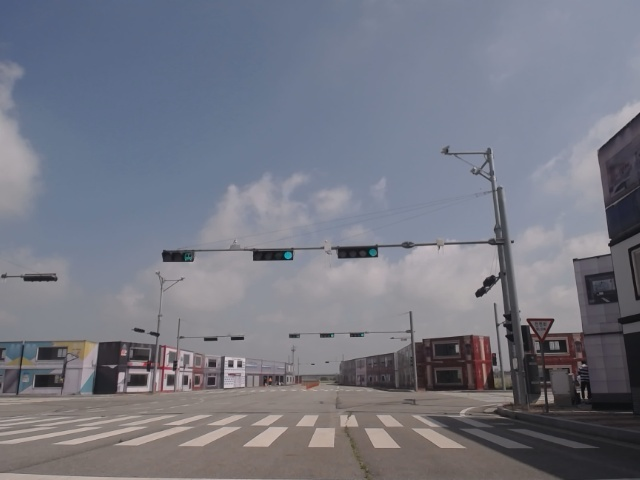straight_green_4: (253, 249, 293, 260), (339, 247, 378, 257)
